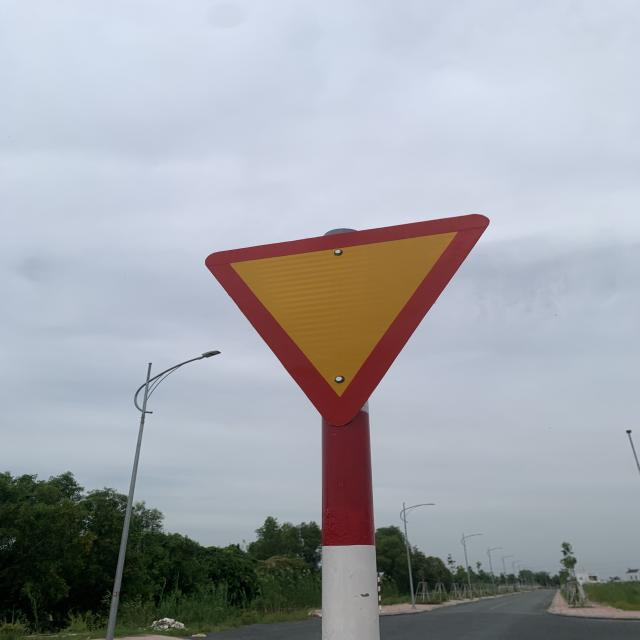Gioi_Han_Toc_Do_25: (202, 213, 491, 424)
